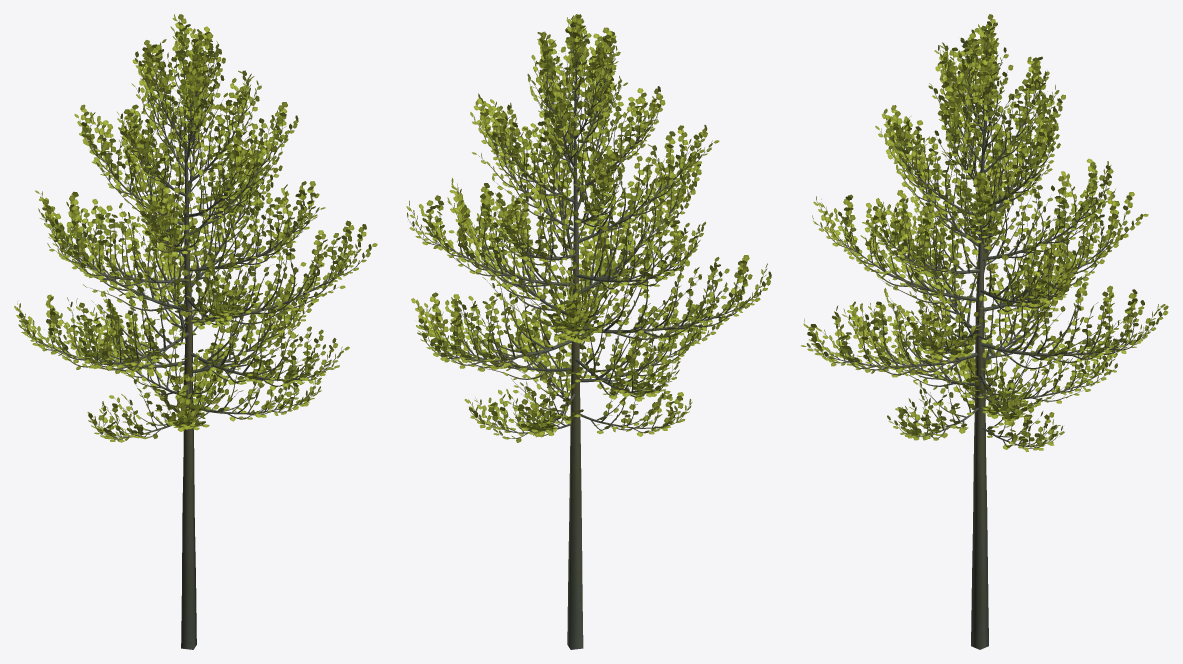
File: Aspen.fbx
3 renders of one model, left to right at view 1: azimuth 30°, elevation 25°; view 2: azimuth 150°, elevation 25°; view 3: azimuth 270°, elevation 25°, orthographic.
Parts seen in each view (by area): view 1: leaves, tree; view 2: leaves, tree; view 3: leaves, tree.
Boxes of the visible parts, x1=… form: leaves: x1=14, y1=14, x2=377, y2=442; tree: x1=18, y1=21, x2=368, y2=649; leaves: x1=406, y1=14, x2=771, y2=442; tree: x1=408, y1=20, x2=769, y2=649; leaves: x1=801, y1=14, x2=1168, y2=451; tree: x1=806, y1=22, x2=1163, y2=649.
Size of the model in its own units: 928 by 1809 by 963.
